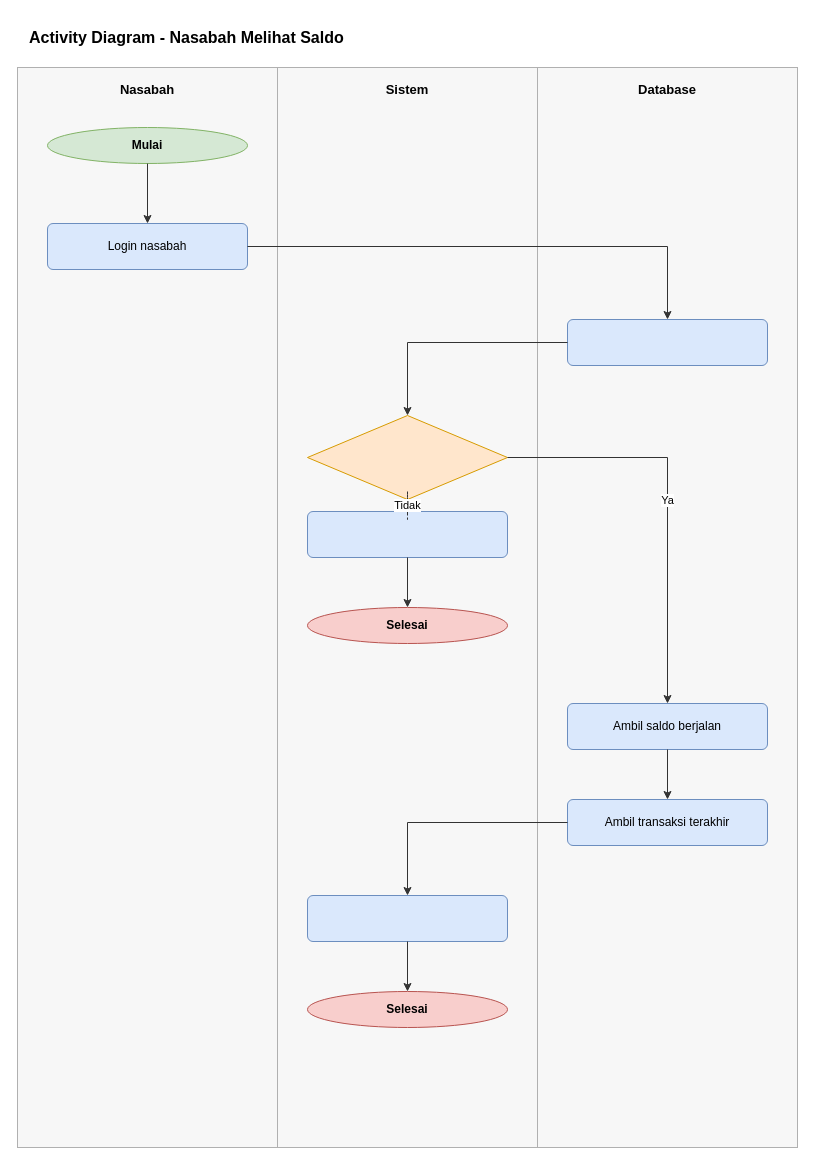
Image size: 815x1165. Some labels were removed from this diagram. The shapes that lost their labels are listed below. From the top down, each one's centre as x and y in pixels, then its label:
At pixel 667 342: "Ambil rekening milik nasabah login".
At pixel 407 457: "Punya rekening?".
At pixel 407 534: "Tampilkan pesan belum ada rekening".
At pixel 407 918: "Tampilkan dashboard saldo".
